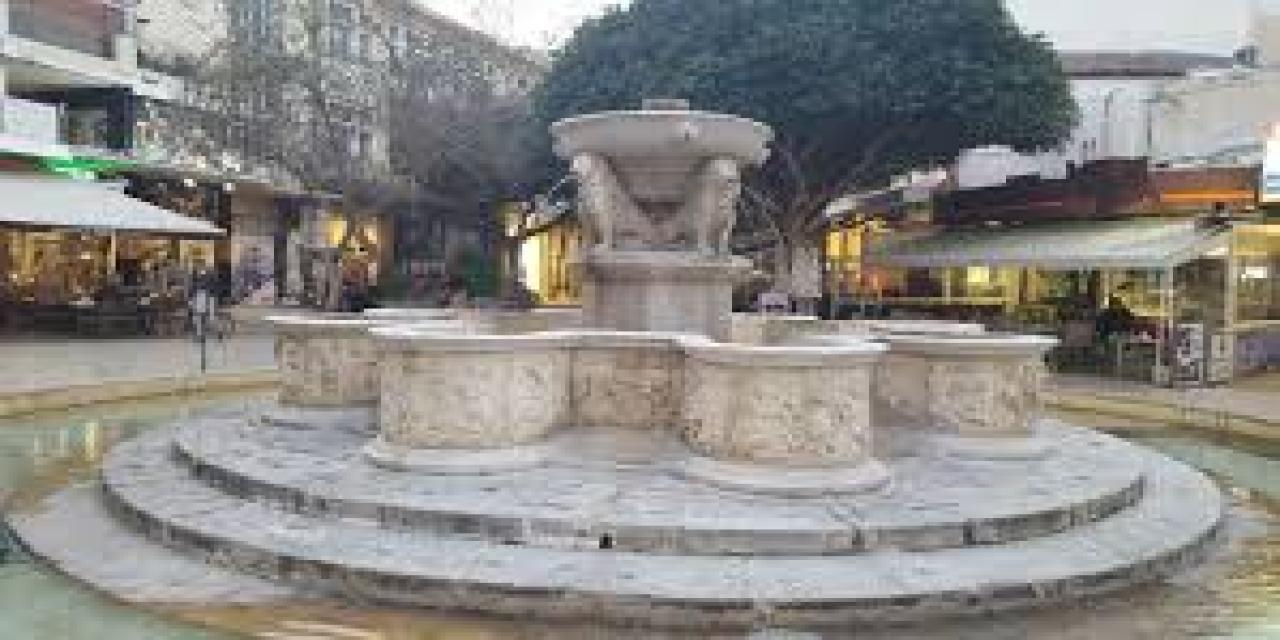Liontaria: (268, 102, 1059, 503)
